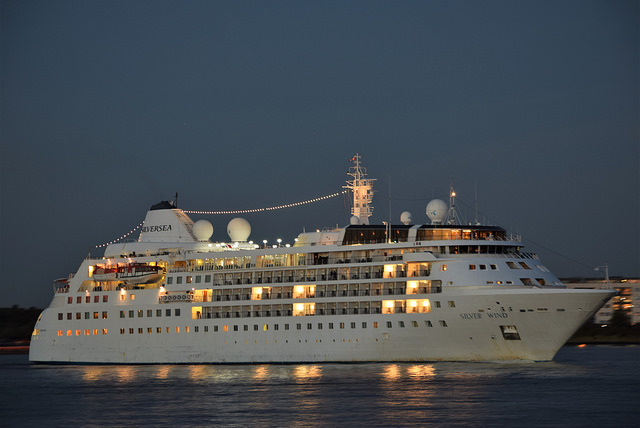cruise_ship: (25, 161, 609, 365)
